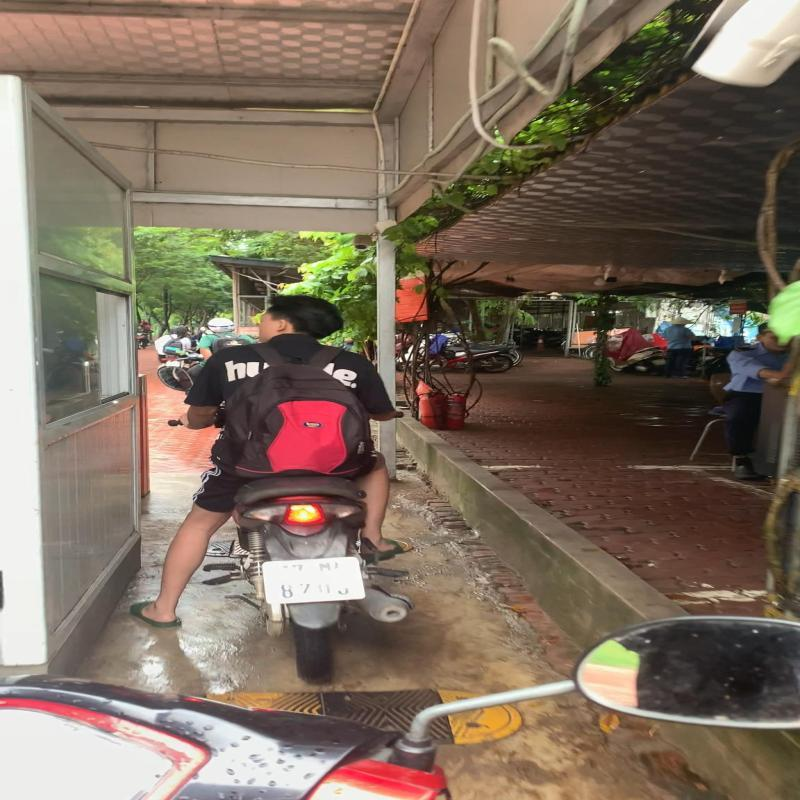nohelmet: (249, 290, 350, 350)
